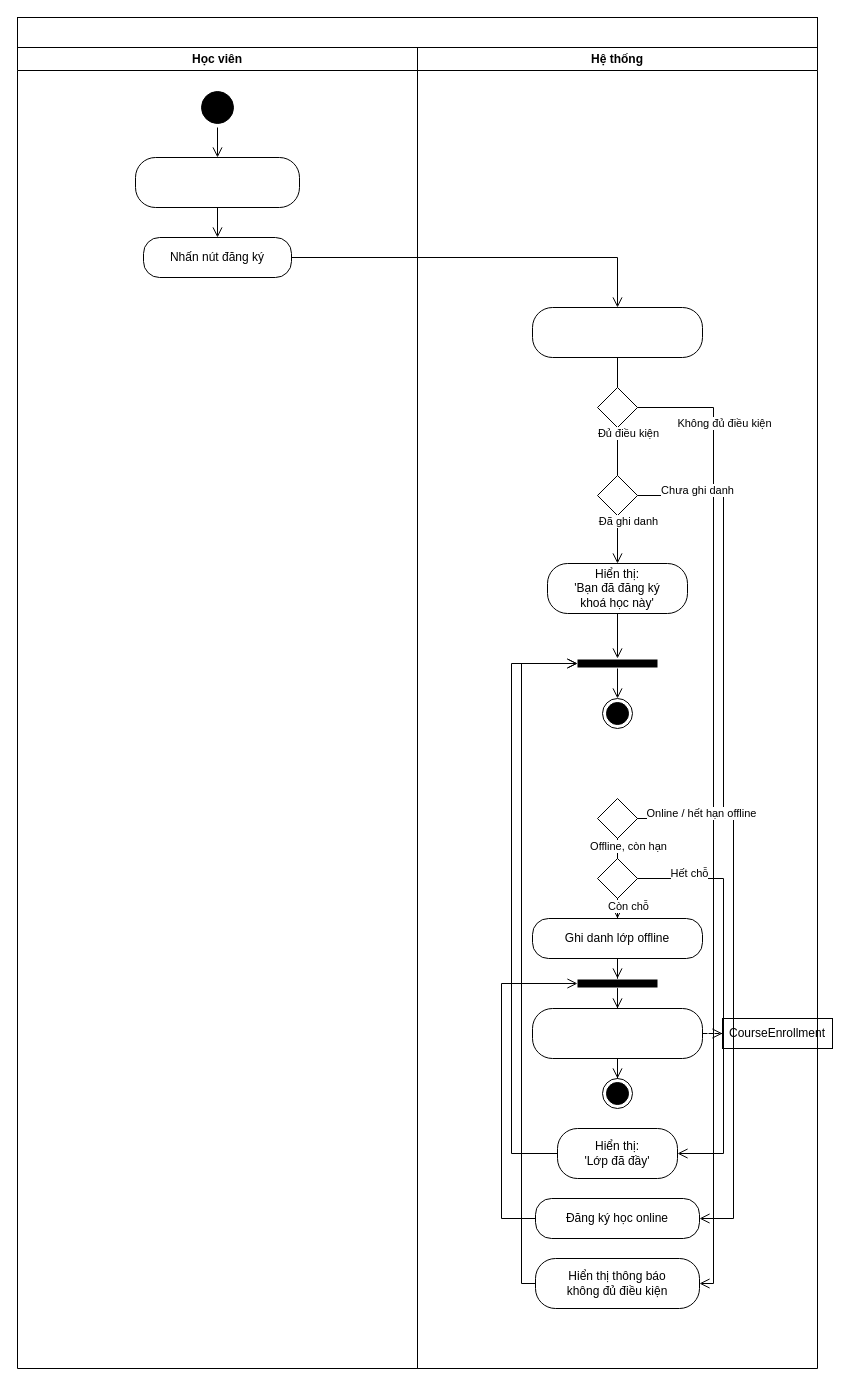
Image size: 850x1386. Some labels were removed from this diagram. The shapes that lost their labels are listed below. From the top down, each one's centre as x and y in pixels, then its label:
the point at 417,32: GHI DANH KHOÁ HỌC
the point at 217,182: Chọn hình thức học (offline/online)
the point at 617,332: Kiểm tra điều kiện (email trường/thành viên CLB)
the point at 617,1033: Tạo ghi danh, cập nhật giao diện ('Bắt đầu học')
